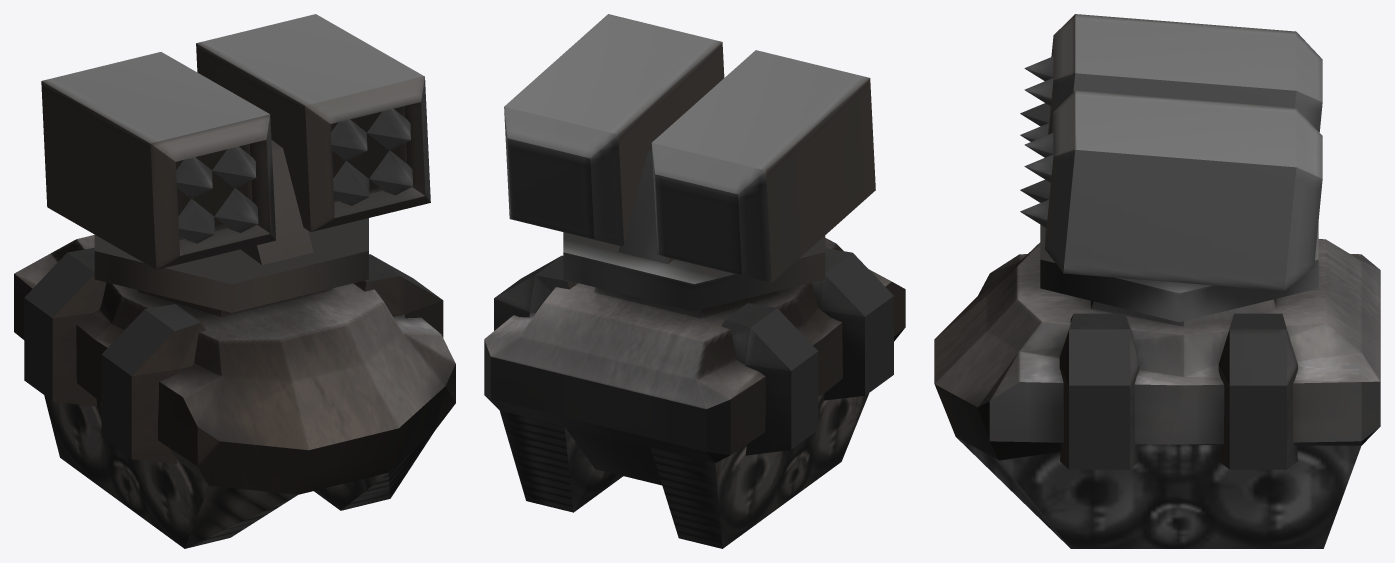
File: artillery_tank.glb
3 renders of one model, left to right at view 1: azimuth 30°, elevation 25°; view 2: azimuth 150°, elevation 25°; view 3: azimuth 270°, elevation 25°, orthographic. The views are drawn at different scales.
Parts seen in each view (by area): view 1: Barrel, Hull, Track_R, Turret, Track_L; view 2: Barrel, Hull, Track_R, Turret, Track_L; view 3: Hull, Barrel, Track_L, Turret.
Boxes of the visible parts, left/top/right/bottom form: Barrel: left=41, top=14, right=430, bottom=269; Hull: left=14, top=235, right=455, bottom=548; Track_R: left=24, top=247, right=205, bottom=464; Turret: left=94, top=140, right=368, bottom=312; Track_L: left=353, top=254, right=443, bottom=337; Barrel: left=504, top=14, right=875, bottom=282; Hull: left=484, top=238, right=905, bottom=548; Track_R: left=721, top=248, right=893, bottom=455; Turret: left=563, top=149, right=825, bottom=311; Track_L: left=494, top=255, right=577, bottom=330; Hull: left=934, top=239, right=1380, bottom=548; Barrel: left=1020, top=14, right=1322, bottom=290; Track_L: left=1059, top=313, right=1297, bottom=469; Turret: left=1040, top=222, right=1318, bottom=322.
Size of the model in its own units: 2.45 by 3.1 by 3.
2 materials, 2 textured.
